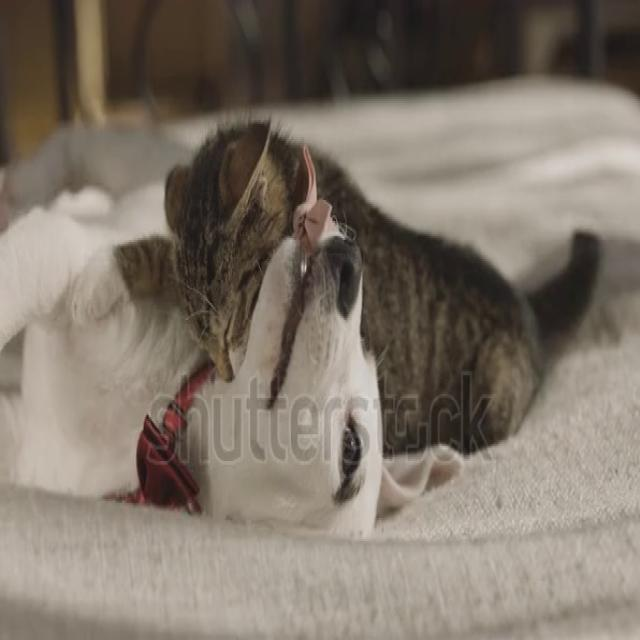normal_animals: (66, 149, 473, 590), (180, 45, 436, 410)
